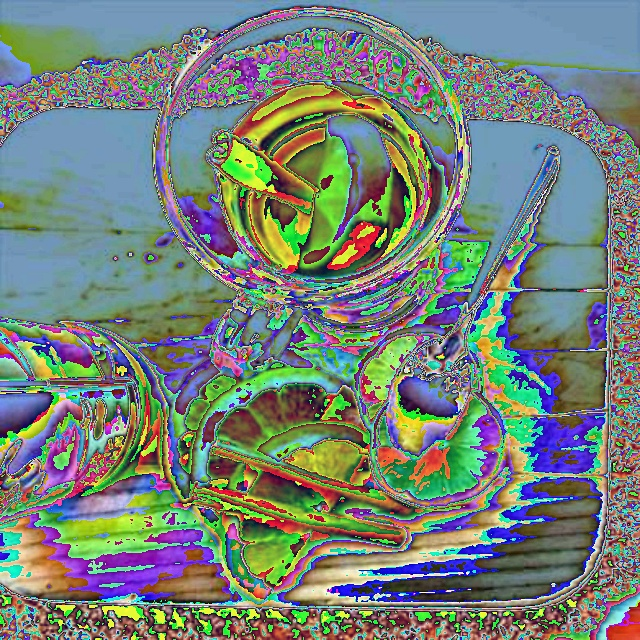background: (0, 288, 510, 604), (213, 79, 445, 279)
